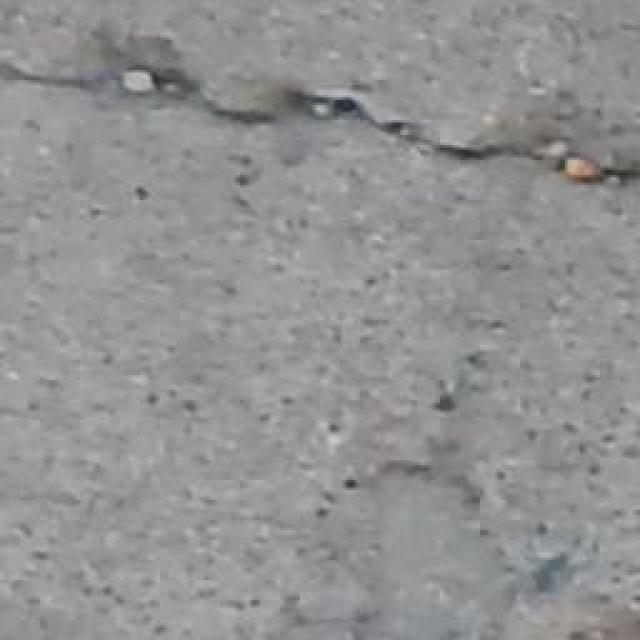concrete-crack: (1, 56, 640, 203)
